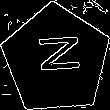N_W: (30, 38, 82, 81)
